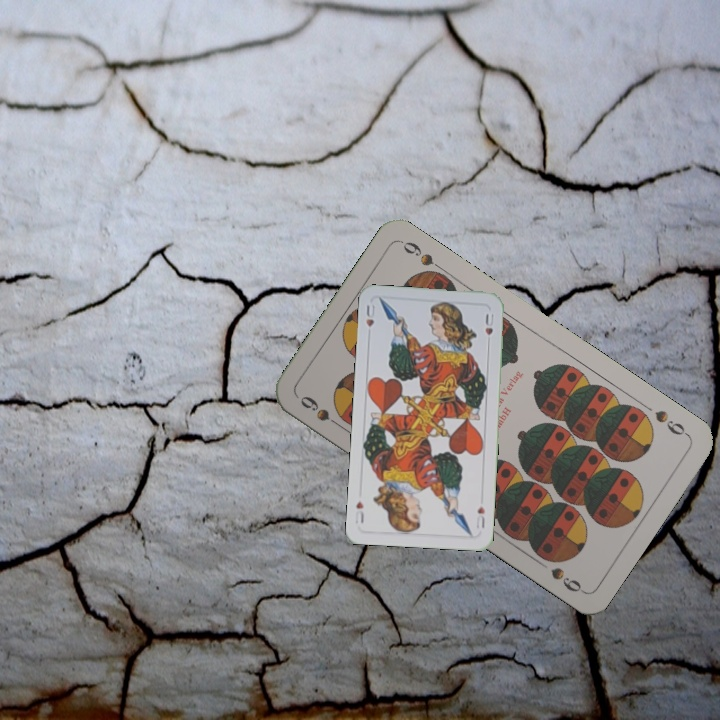HU: (472, 502, 487, 531), (362, 300, 377, 329)
S9: (296, 391, 347, 432), (650, 406, 692, 439)
